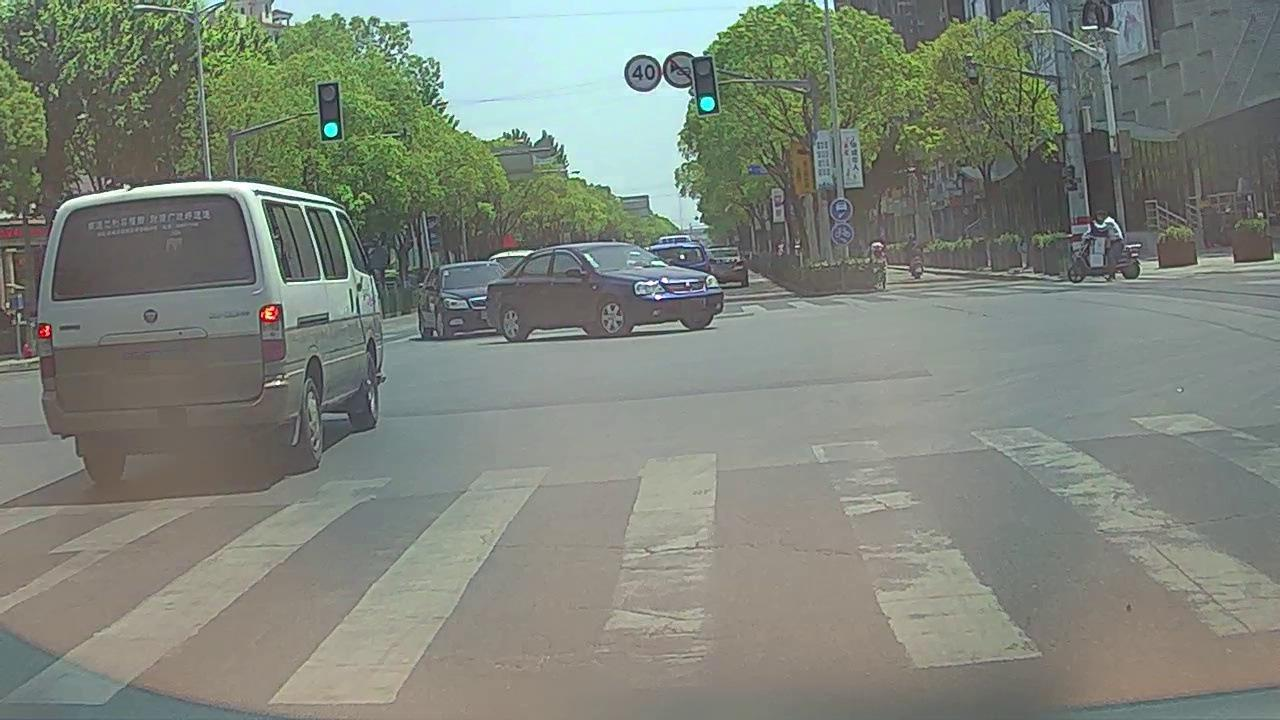traffic_light: (694, 57, 718, 116), (318, 84, 342, 140)
